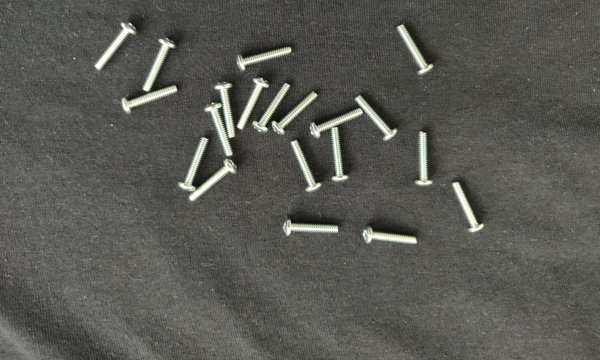longscrew: (353, 92, 399, 139), (396, 25, 438, 76), (451, 179, 489, 235), (249, 83, 289, 133), (275, 89, 317, 136), (190, 161, 237, 203), (290, 136, 324, 194), (312, 105, 364, 138), (176, 138, 208, 191), (237, 46, 293, 74), (203, 105, 233, 156), (236, 80, 267, 129), (123, 89, 176, 112), (215, 80, 235, 138), (281, 219, 339, 237), (364, 228, 422, 245), (330, 126, 347, 182), (417, 132, 431, 189)
